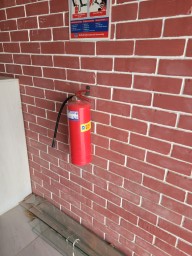fire_extinguisher: (65, 133, 125, 168), (74, 133, 125, 168)
